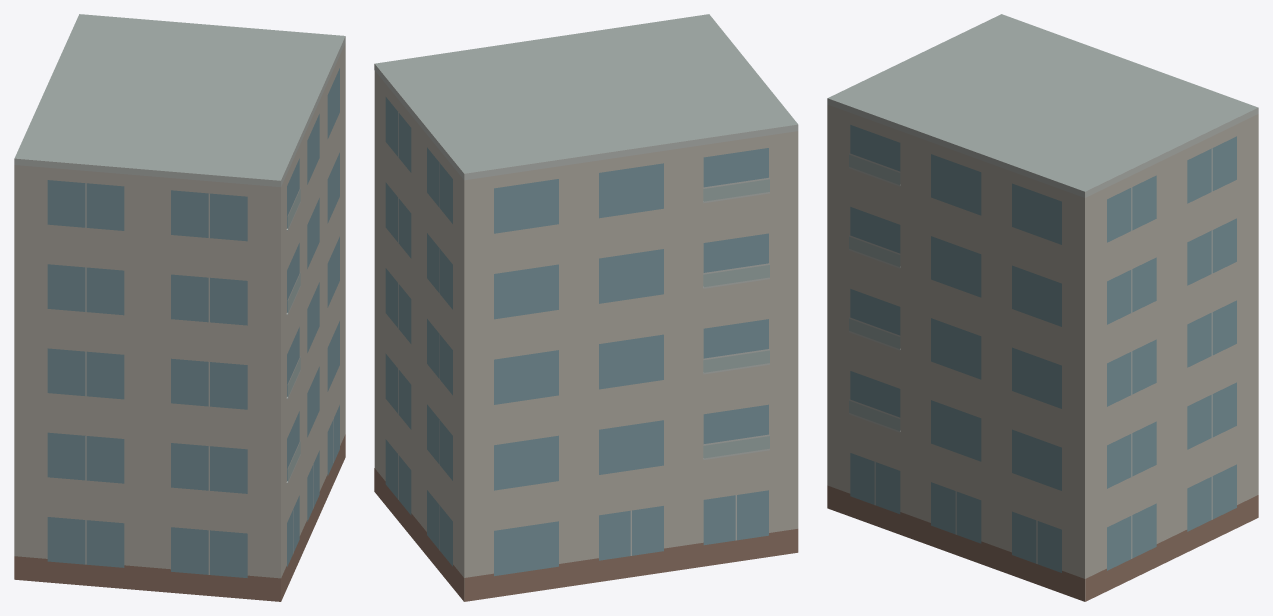
File: survey-upis-32947142.glb
3 renders of one model, left to right at view 1: azimuth 30°, elevation 25°; view 2: azimuth 150°, elevation 25°; view 3: azimuth 270°, elevation 25°, orthographic. The views are drawn at different scales.
Parts seen in each view (by area): view 1: survey-upis-32947142.tmp; view 2: survey-upis-32947142.tmp; view 3: survey-upis-32947142.tmp.
Boxes of the visible parts, x1,y1,x2,y2 form: survey-upis-32947142.tmp: (14,14,345,601); survey-upis-32947142.tmp: (374,14,798,601); survey-upis-32947142.tmp: (827,14,1258,601).
Bounding box in the file's own units: 14.89 × 16 × 15.25.
